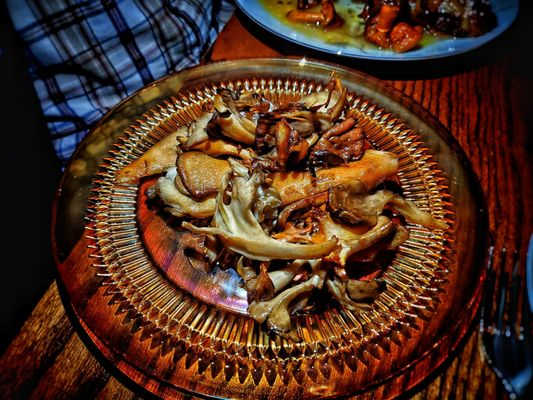curry: (14, 0, 532, 400)
